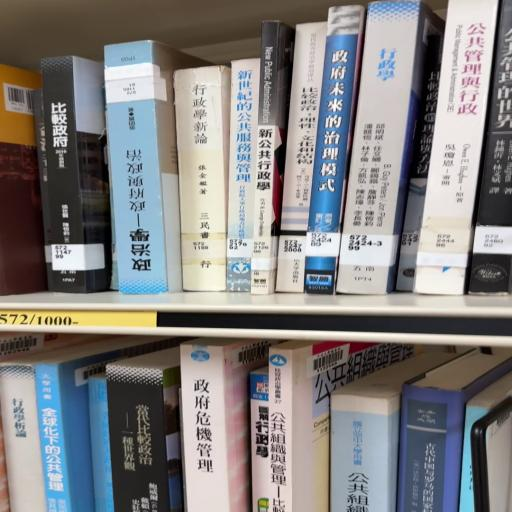reverse: (105, 42, 211, 295)
